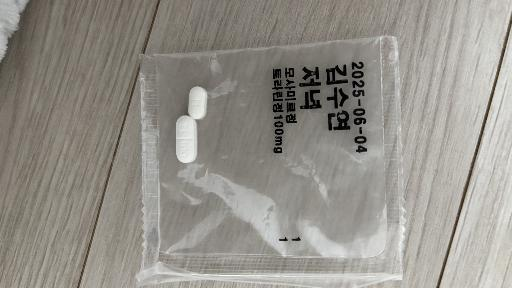Mosamir: (188, 86, 207, 119)
Traline: (176, 115, 197, 163)
vinyl: (137, 36, 405, 288)
